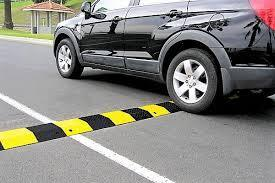Bump: (0, 100, 184, 150)
